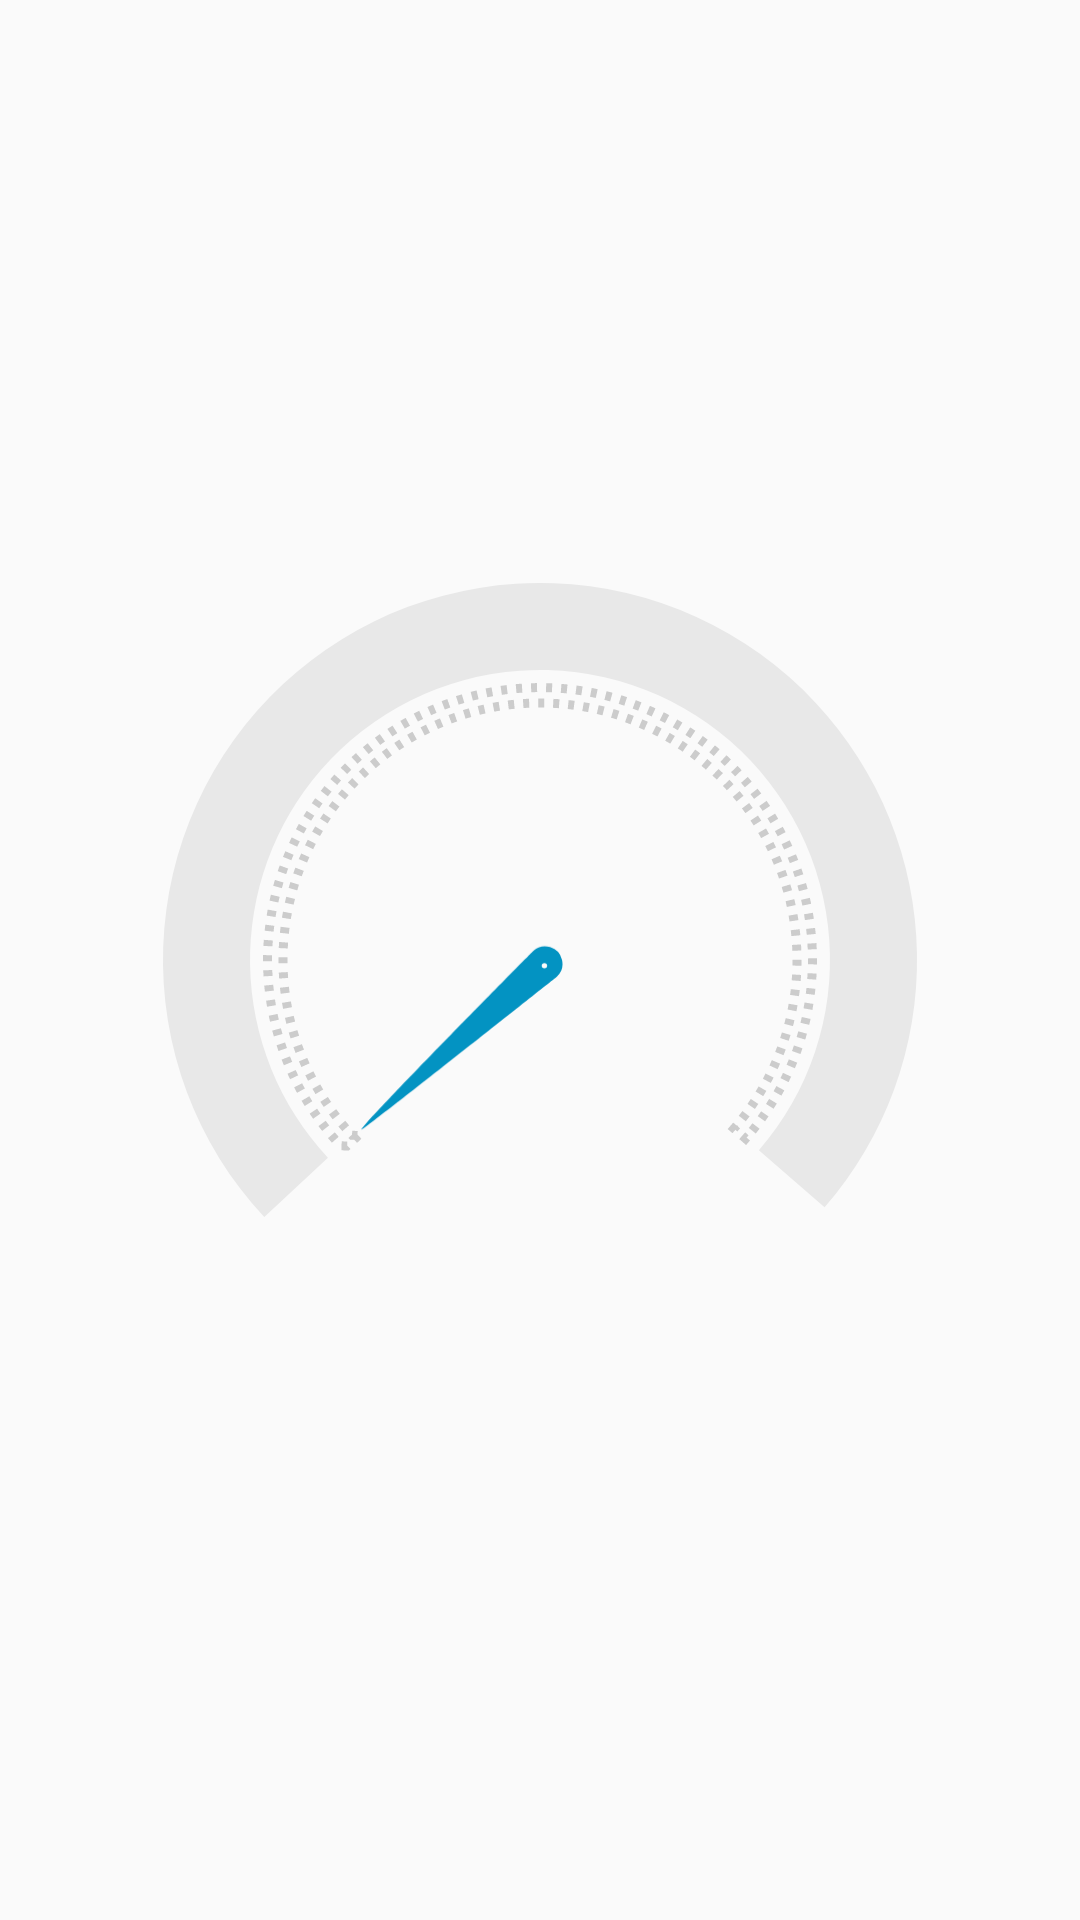

Named icons in this screenshot (1080 × 1920) and their bounding boxes, (x1, y1, x2, y2):
pointer: (361, 946, 563, 1130)
